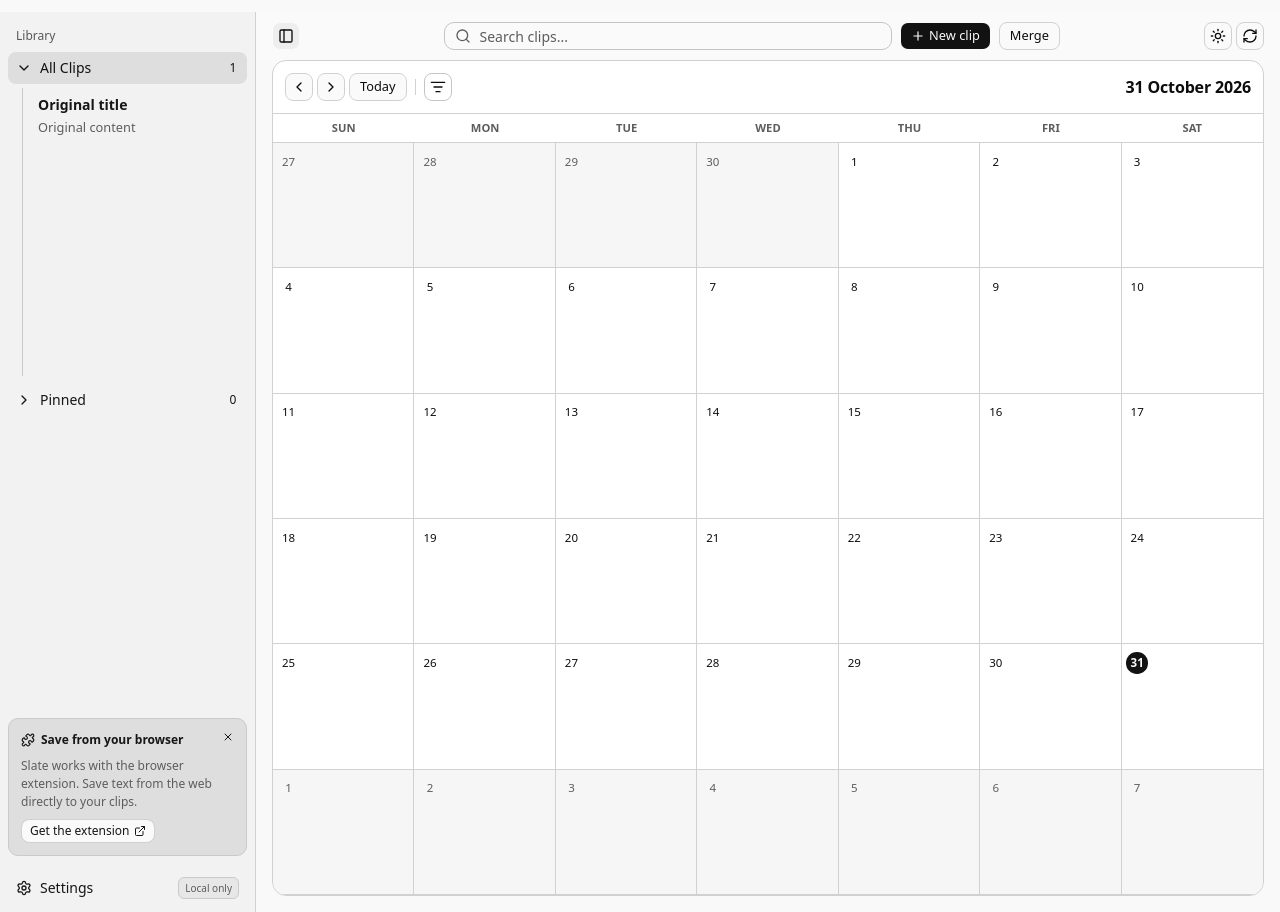
Test: Escape cancels and IME Enter does not save
Click the button "Original title Original content" at (138, 116), box [29, 88, 247, 144]
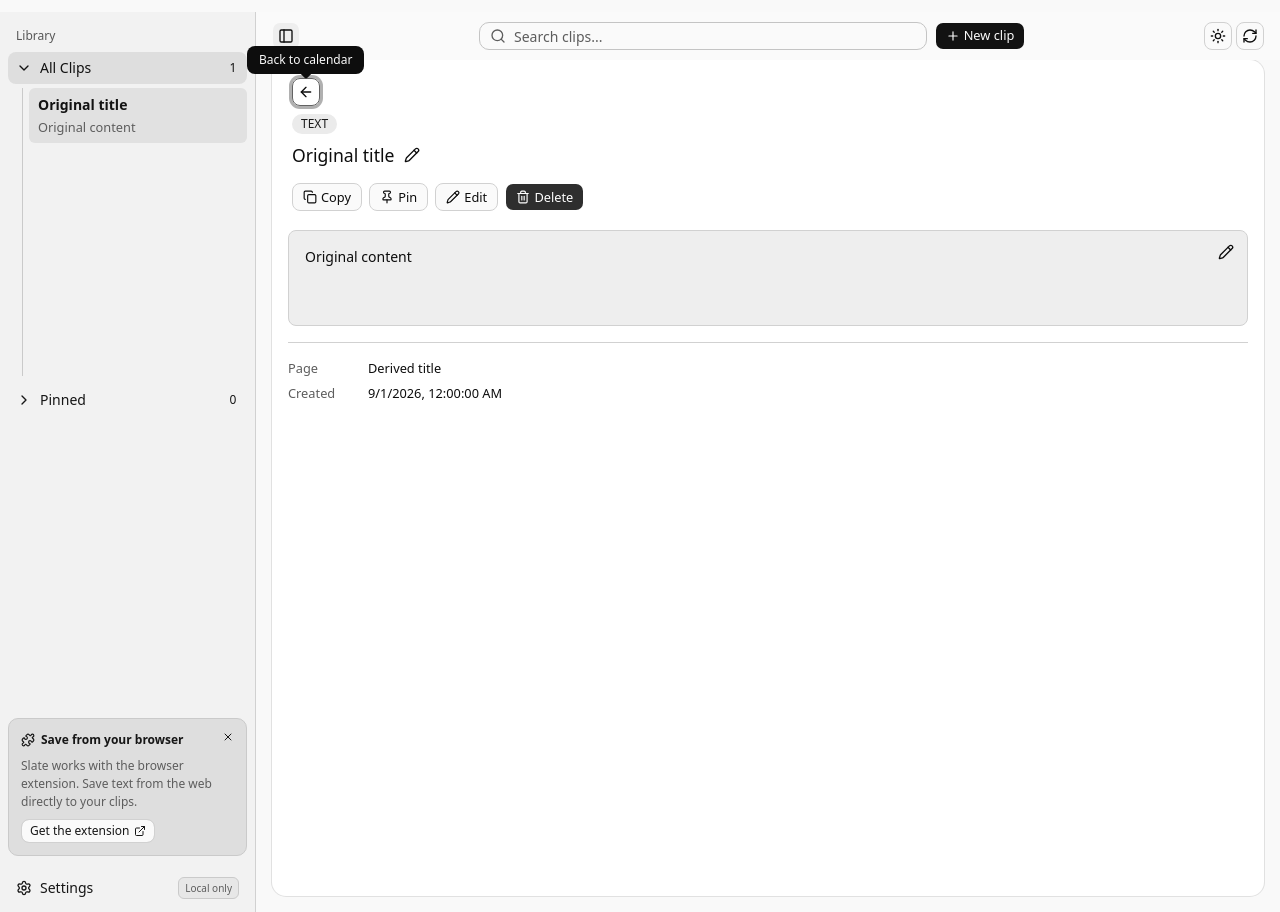
Expected: the heading "Original title" is shown, [292, 143, 394, 167]
Click the button named "Edit clip title" at (412, 155), box [398, 141, 426, 169]
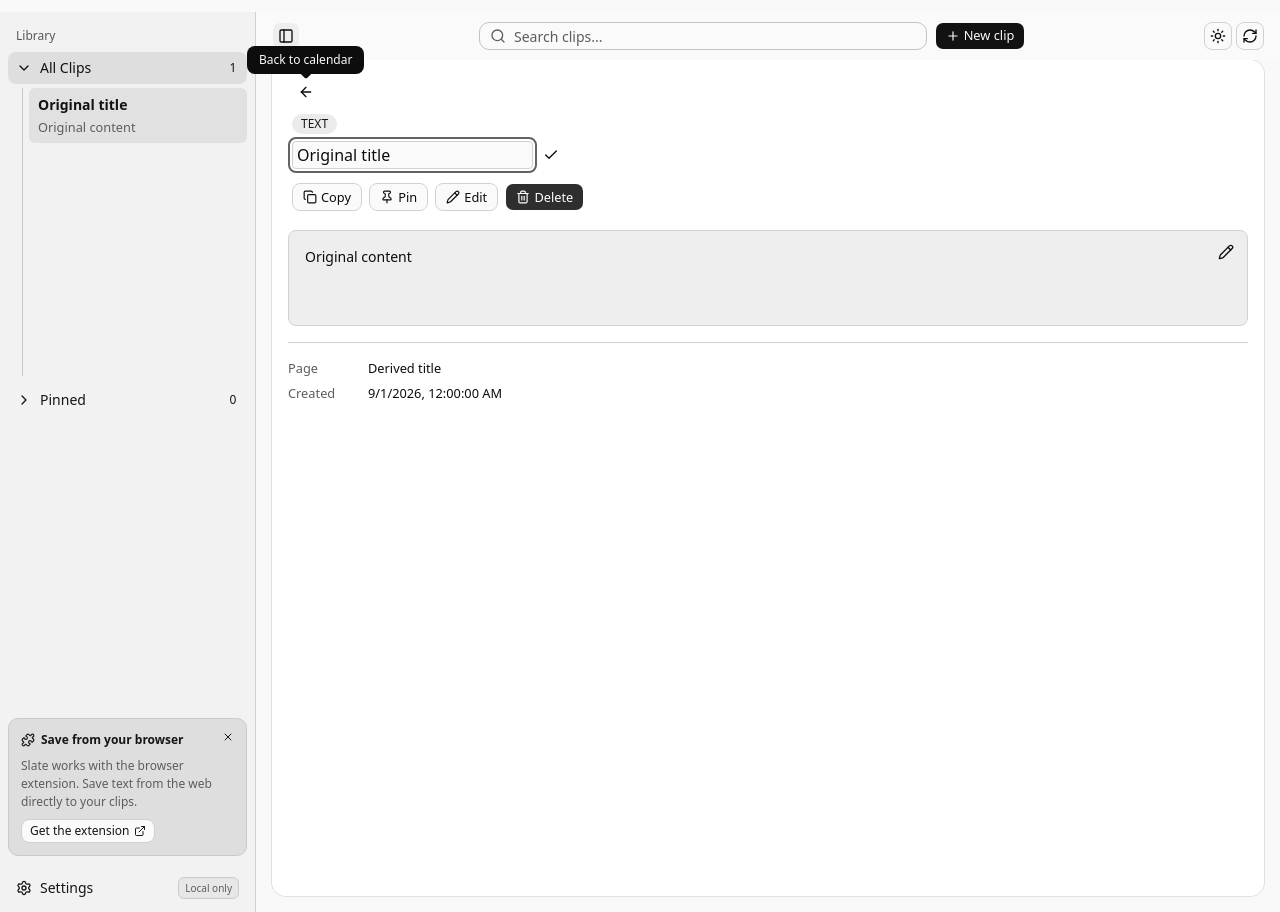
Replace the text in the field named "Clip title" with "Draft title" at (412, 155), box [292, 141, 533, 169]
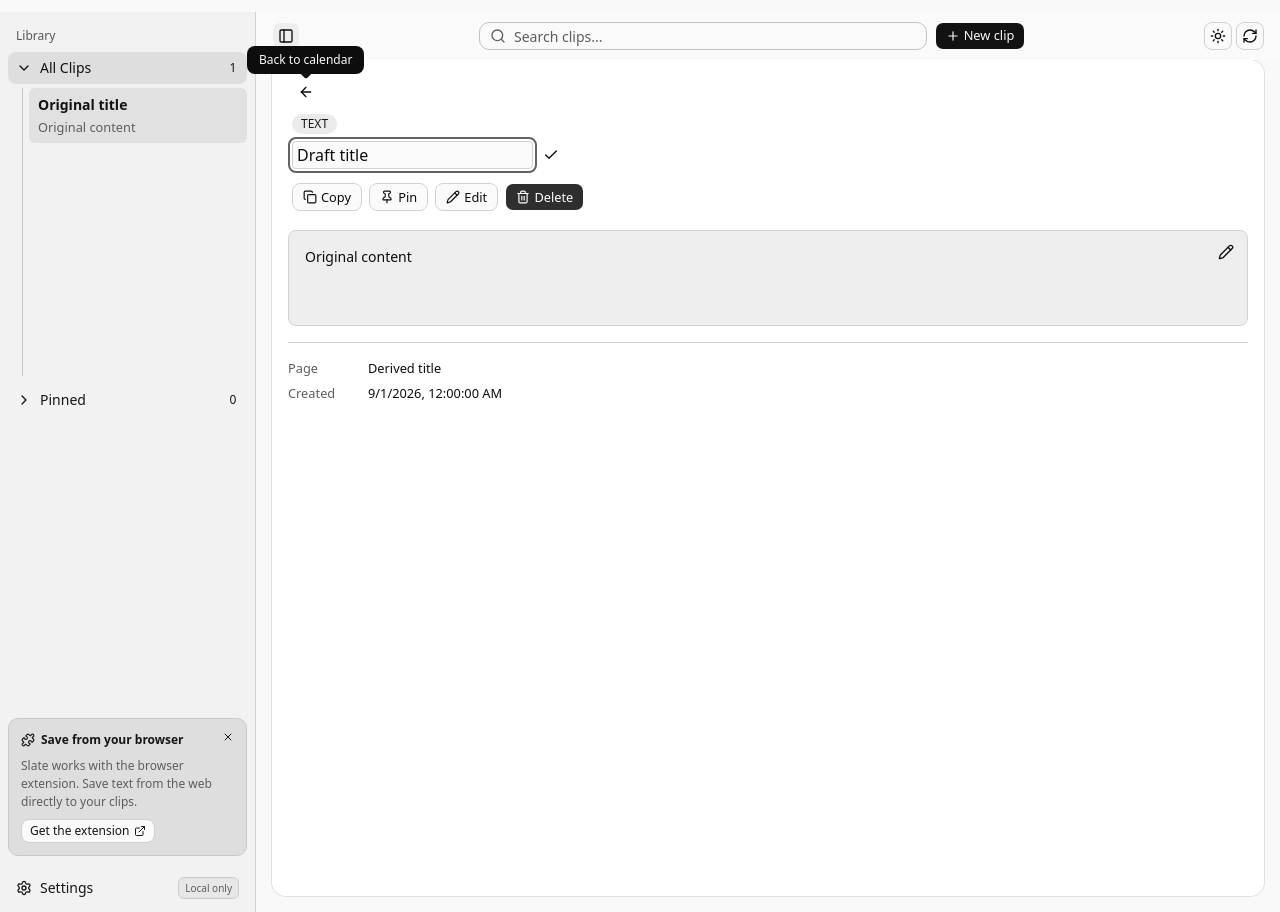
Press Enter in the field named "Clip title", box [292, 141, 533, 169]
Press Escape in the field named "Clip title", box [292, 141, 533, 169]
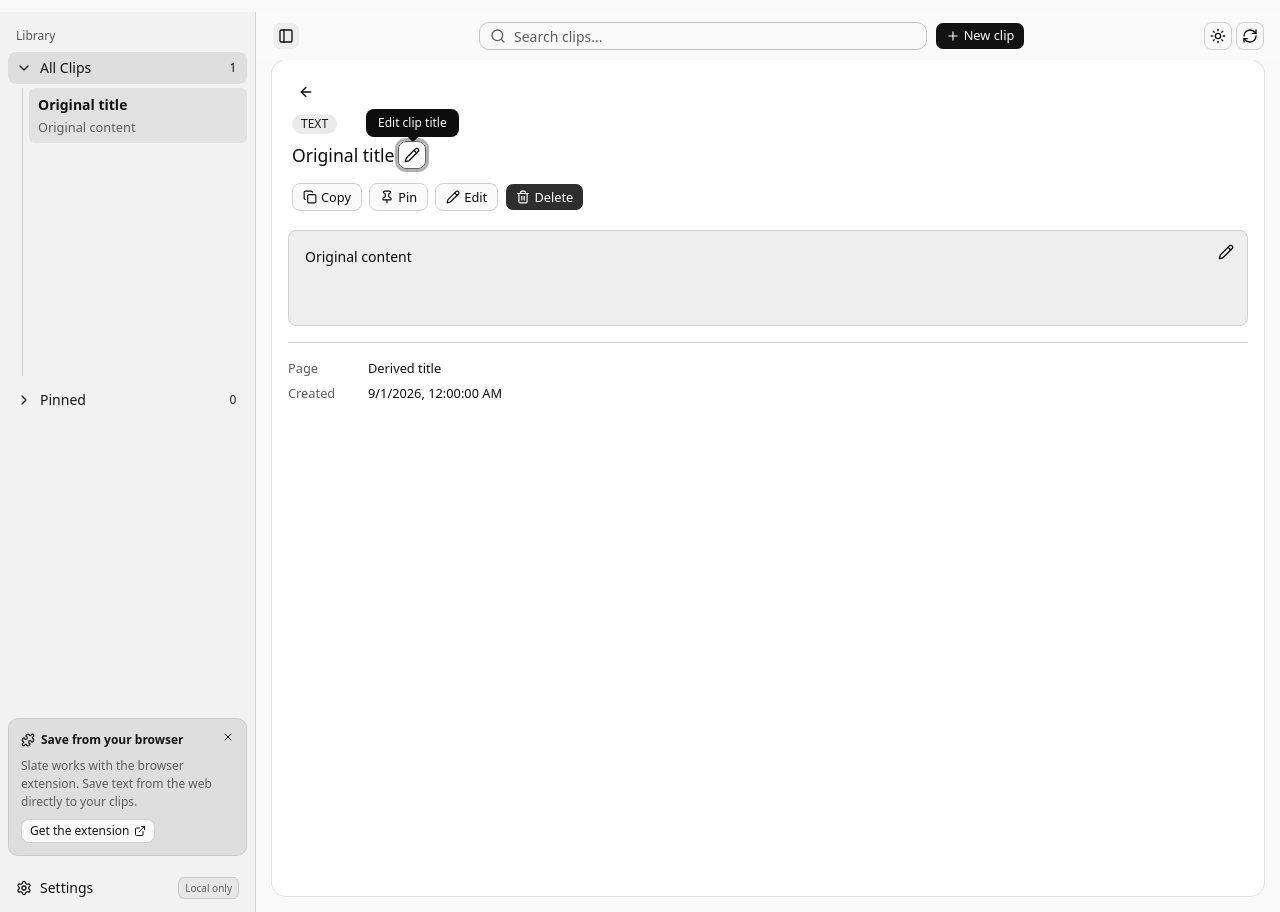
Expected: the heading "Original title" is shown, [292, 143, 394, 167]
